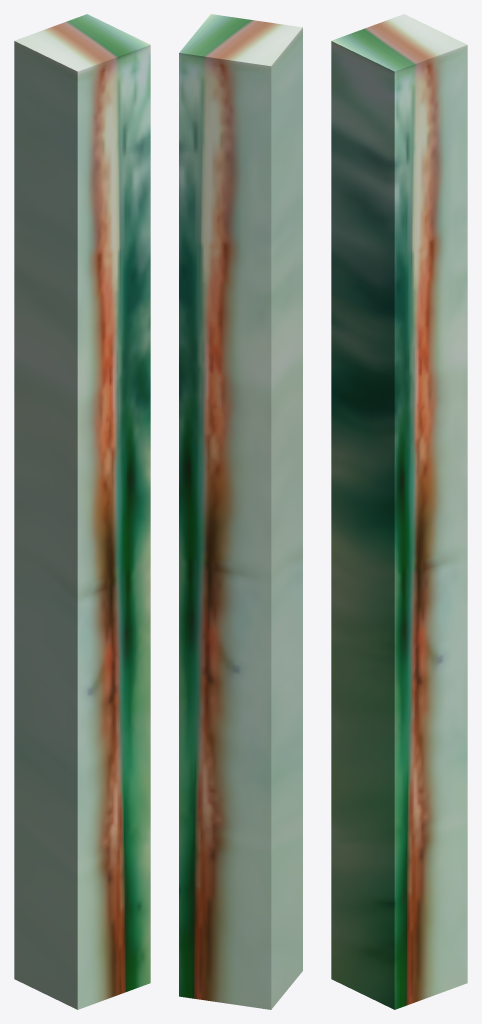
File: Ridge_Block_5.gltf
3 renders of one model, left to right at view 1: azimuth 90°, elevation 25°; view 2: azimuth 210°, elevation 25°; view 3: azimuth 270°, elevation 25°, orthographic.
Parts seen in each view (by area): view 1: Ridge_Block_5; view 2: Ridge_Block_5; view 3: Ridge_Block_5.
Boxes of the visible parts, x1,y1,x2,y2 form: Ridge_Block_5: (14, 14, 150, 1009); Ridge_Block_5: (179, 14, 302, 1009); Ridge_Block_5: (331, 14, 467, 1009).
Bounding box in the file's own units: 4.13 × 31.35 × 4.13.
1 material, 1 textured.
